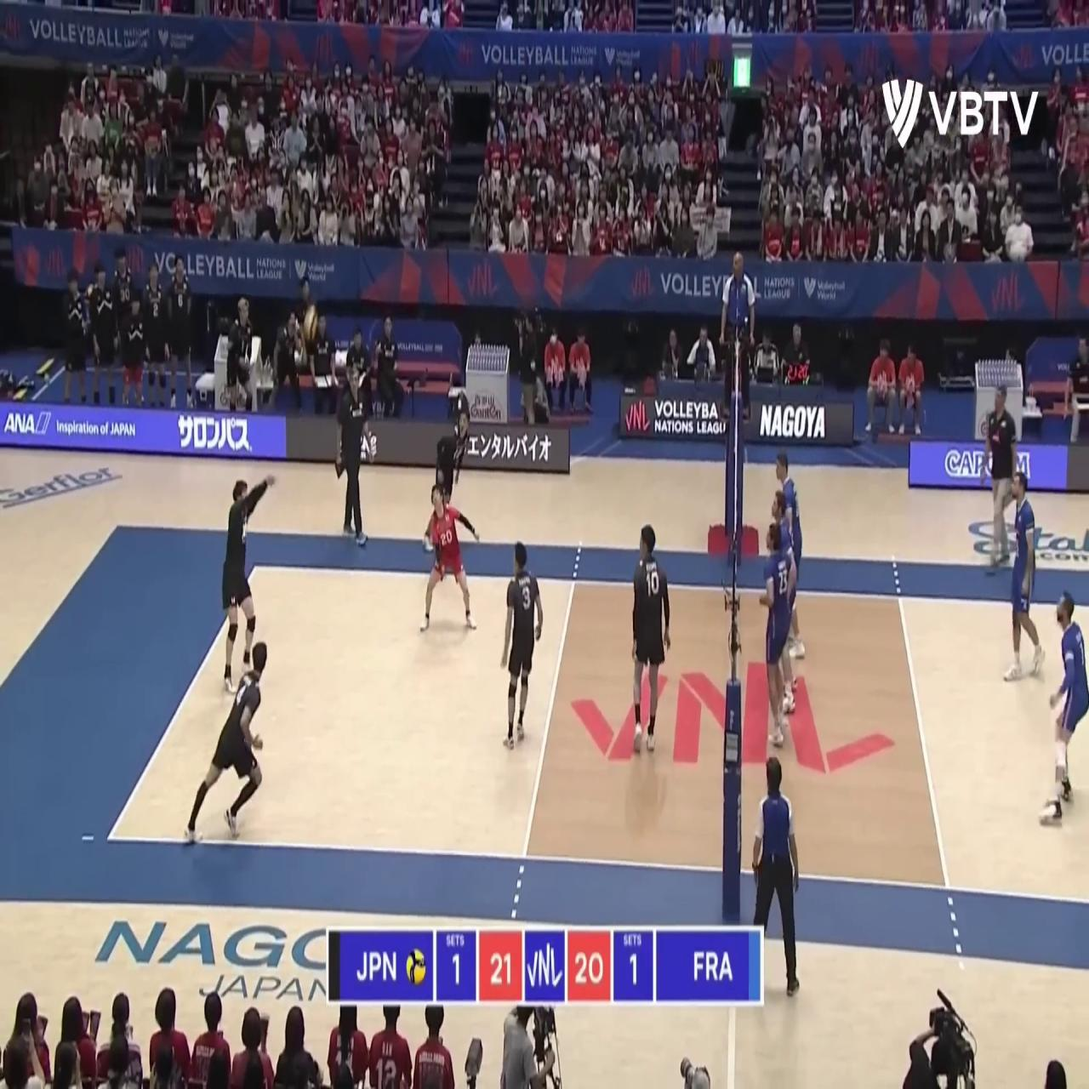ball: (303, 308, 319, 338)
